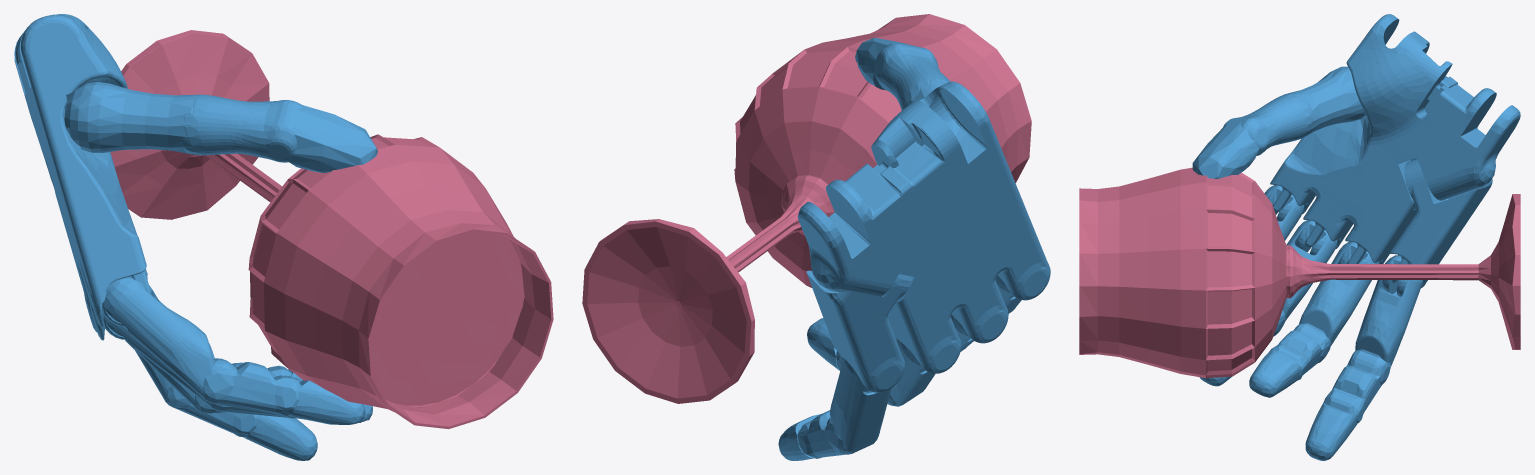
The picture shows the model from 3 angles, left to right: view 1: azimuth 30°, elevation 25°; view 2: azimuth 150°, elevation 25°; view 3: azimuth 270°, elevation 25°; orthographic projection. The views are drawn at different scales.
Parts seen in each view (by area): view 1: 7; view 2: 7; view 3: 7.
Part boxes in pixels (x1,y1,x2,y2): 7: (14,14,553,460); 7: (582,14,1050,460); 7: (1079,14,1520,460).
Size of the model in its own units: 0.1497 by 0.1841 by 0.2031.
